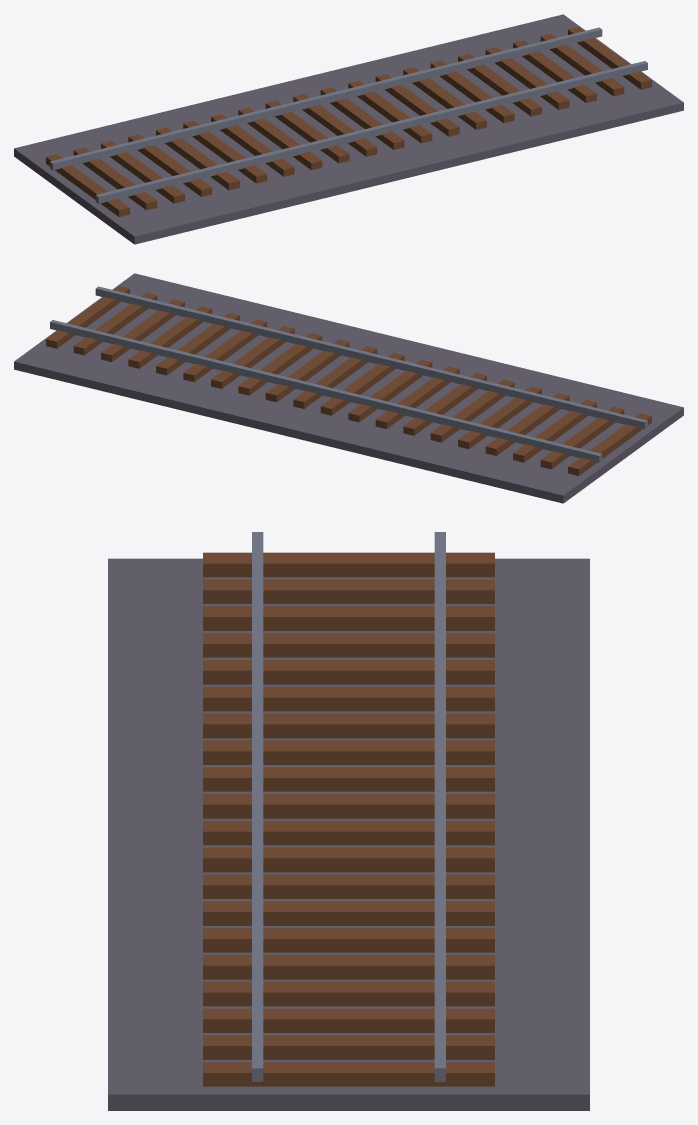
File: TRN_Track.fbx
3 renders of one model, top to bottom at view 1: azimuth 30°, elevation 25°; view 2: azimuth 150°, elevation 25°; view 3: azimuth 270°, elevation 25°, orthographic. The views are drawn at different scales.
Parts seen in each view (by area): view 1: TRN_Track_Track; view 2: TRN_Track_Track; view 3: TRN_Track_Track.
Part boxes in pixels (bbox=[...]): TRN_Track_Track: bbox=[14, 14, 683, 244]; TRN_Track_Track: bbox=[14, 273, 683, 503]; TRN_Track_Track: bbox=[108, 532, 589, 1110].
Size of the model in its own units: 1000 by 37 by 380.
